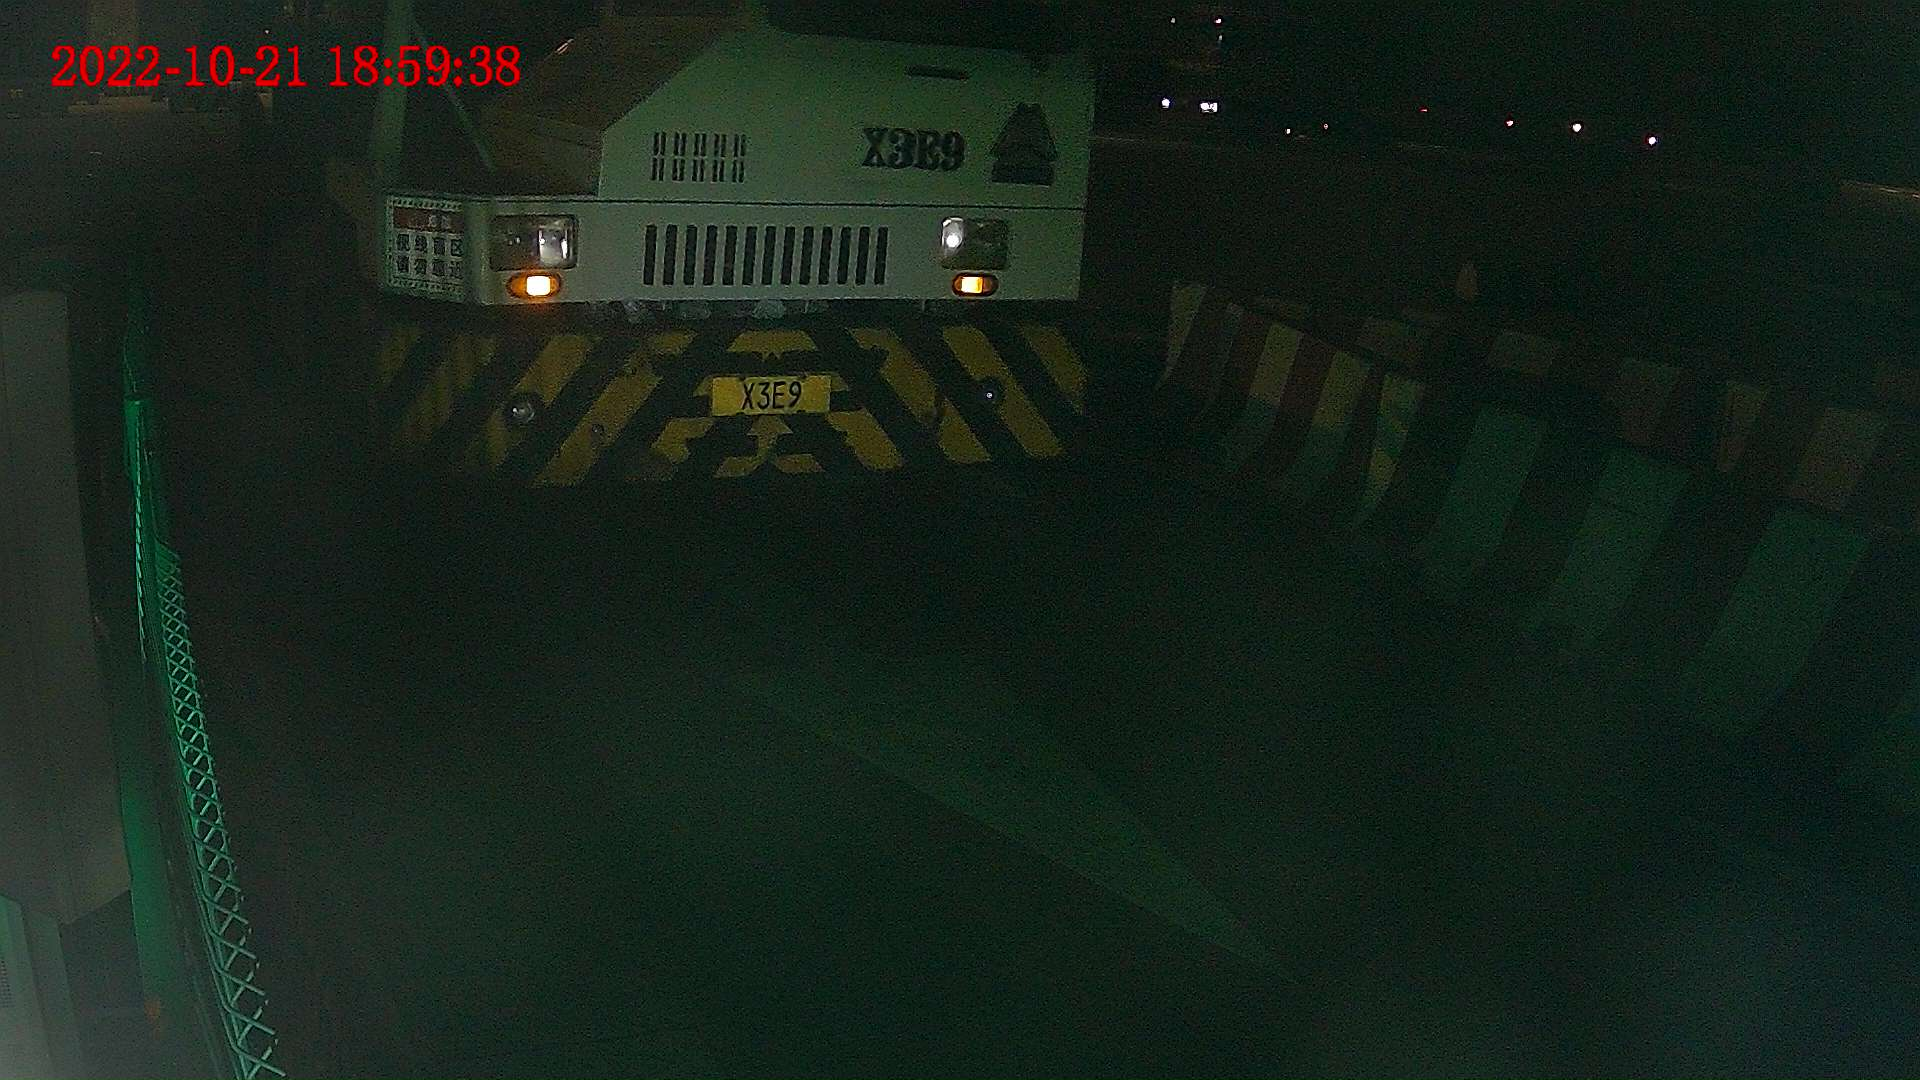head: (330, 9, 1092, 477)
plate: (709, 376, 835, 415)
